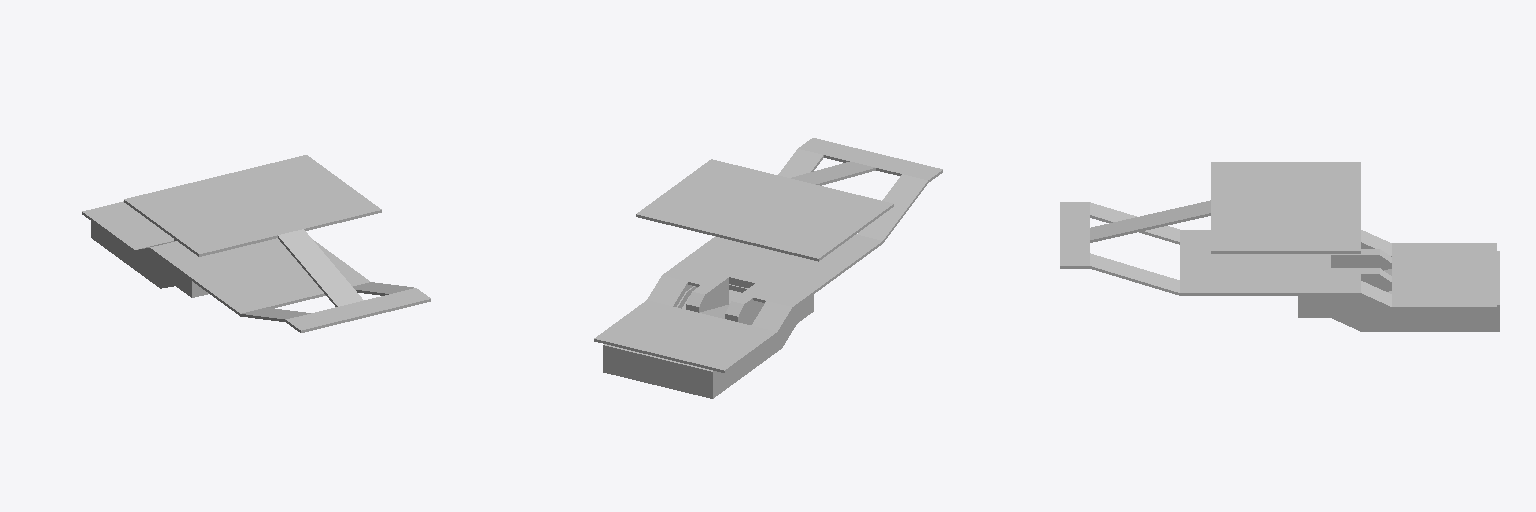
File: Terrain.obj
3 renders of one model, left to right at view 1: azimuth 30°, elevation 25°; view 2: azimuth 150°, elevation 25°; view 3: azimuth 270°, elevation 25°, orthographic.
Parts seen in each view (by area): view 1: Ground_Cube; view 2: Ground_Cube; view 3: Ground_Cube.
Part boxes in pixels (left/top/right/bottom): Ground_Cube: left=82, top=155, right=430, bottom=332; Ground_Cube: left=594, top=138, right=942, bottom=398; Ground_Cube: left=1060, top=162, right=1499, bottom=331.
Bounding box in the file's own units: 70 × 36 × 146.